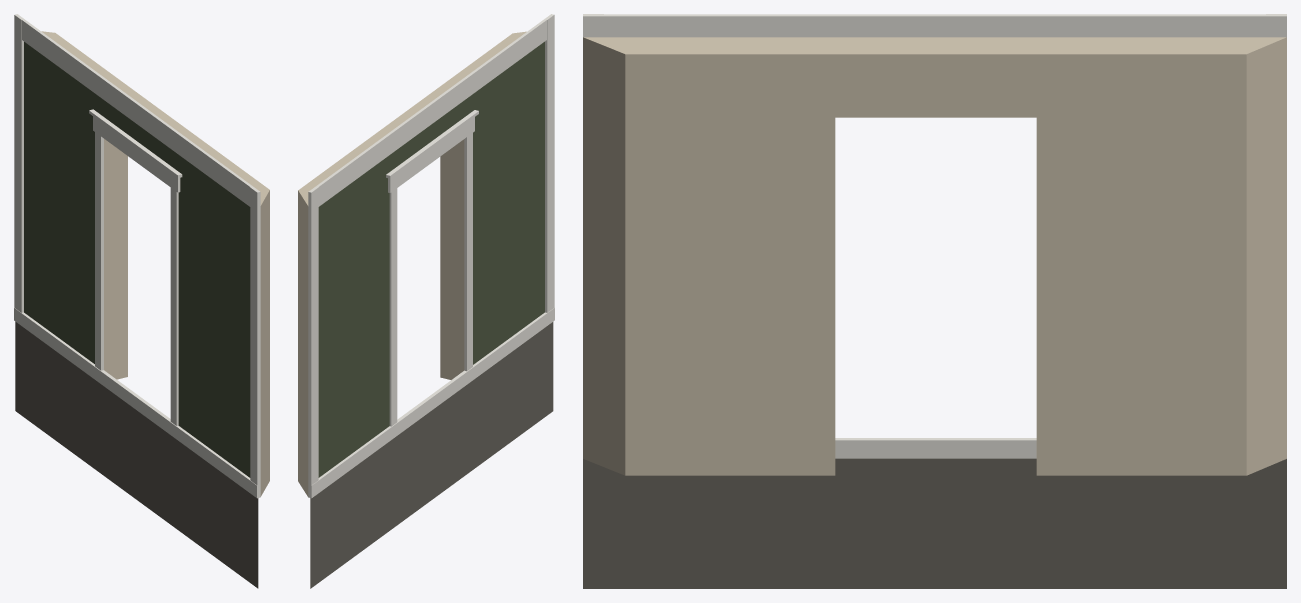
File: wall-09.glb
The picture shows the model from 3 angles, left to right: view 1: azimuth 30°, elevation 25°; view 2: azimuth 150°, elevation 25°; view 3: azimuth 270°, elevation 25°; orthographic projection. The views are drawn at different scales.
Size of the model in its own units: 0.8429 by 10.9 by 12.11.
